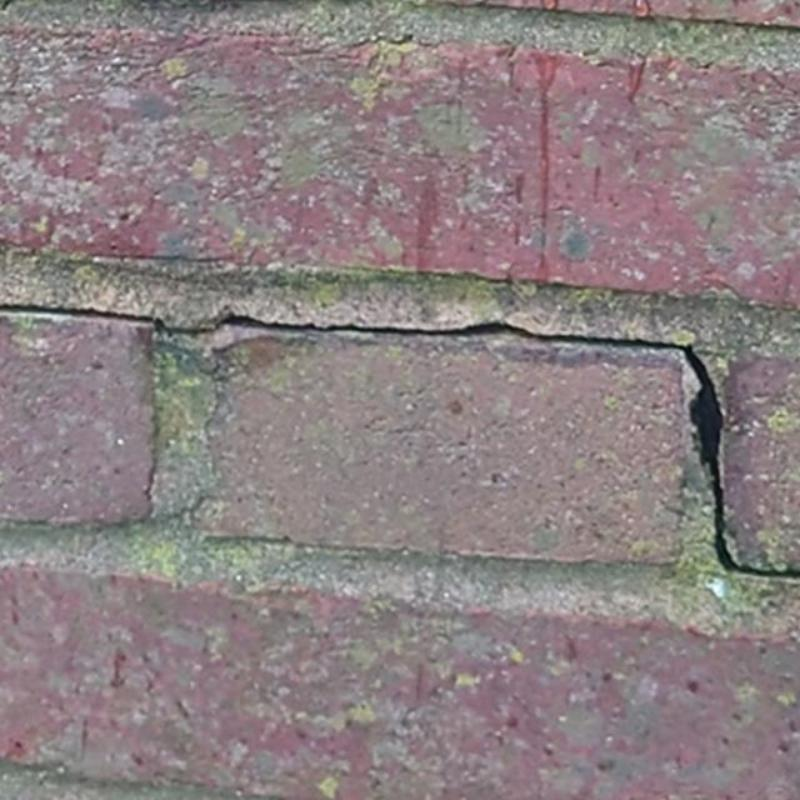pothole: (0, 306, 800, 582)
